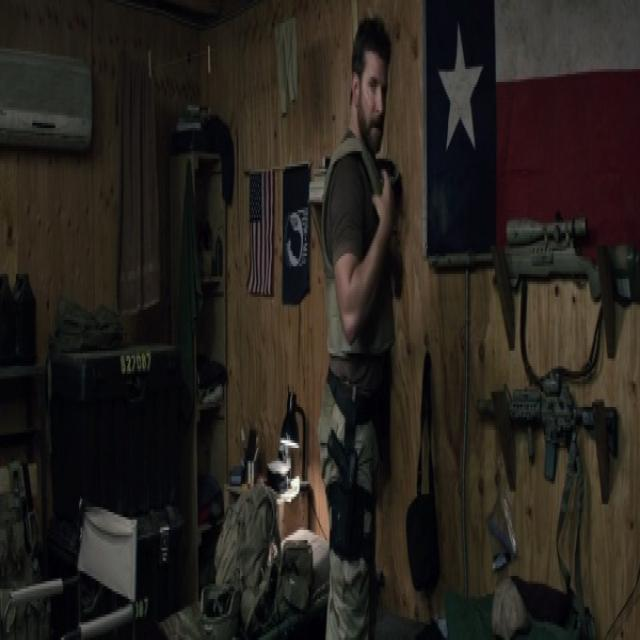rifle: (427, 205, 640, 372), (473, 372, 620, 513)
